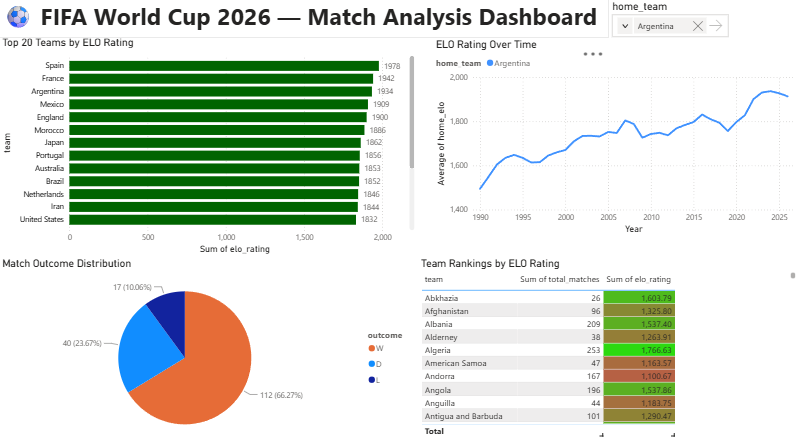

The dashboard page shown, as its layout file describes it:
{"tool":"powerbi","page":{"name":"Page 1","canvas":[1280,720],"ordinal":0},"visuals":[{"type":"barChart","title":"Top 20 Teams by ELO Rating","fields":{"Category":["powerbi_elo_ratings.team"],"Y":["Sum(powerbi_elo_ratings.elo_rating)"]},"box":[0,62,670,354],"z":0},{"type":"pieChart","title":"Match Outcome Distribution","fields":{"Category":["powerbi_matches.outcome"],"Y":["CountNonNull(powerbi_matches.outcome)"]},"box":[0,416,670,304],"z":1},{"type":"lineChart","title":"ELO Rating Over Time","fields":{"Category":["powerbi_matches.date.Variation.Date Hierarchy.Year","powerbi_matches.date.Variation.Date Hierarchy.Quarter","powerbi_matches.date.Variation.Date Hierarchy.Month","powerbi_matches.date.Variation.Date Hierarchy.Day"],"Y":["Avg(powerbi_matches.home_elo)"],"Series":["powerbi_matches.home_team"]},"box":[694,66,586,318],"z":2},{"type":"textSlicer","fields":{"Values":["powerbi_matches.home_team"]},"box":[1048,4,196,62],"z":3},{"type":"tableEx","title":"Team Rankings by ELO Rating","fields":{"Values":["powerbi_team_summary.team","select","Sum(powerbi_team_summary.total_matches)","select1","Sum(powerbi_team_summary.elo_rating)"]},"box":[670,416,610,292],"z":4},{"type":"textbox","box":[0,0,1074,66],"z":5}]}

Visuals, with their boxes in screenshot pixels (x1, y1, x2, y2), scaled from the page's 1280x720 canvas onto the 797x443 screenshot:
"Top 20 Teams by ELO Rating" barChart: (0,38,417,256)
"Match Outcome Distribution" pieChart: (0,256,417,442)
"ELO Rating Over Time" lineChart: (432,41,796,236)
textSlicer - powerbi_matches.home_team: (653,2,775,41)
"Team Rankings by ELO Rating" tableEx: (417,256,796,436)
textbox: (0,0,669,41)
